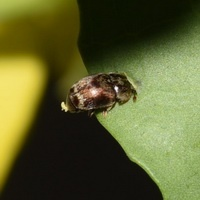insect: (61, 72, 136, 116)
